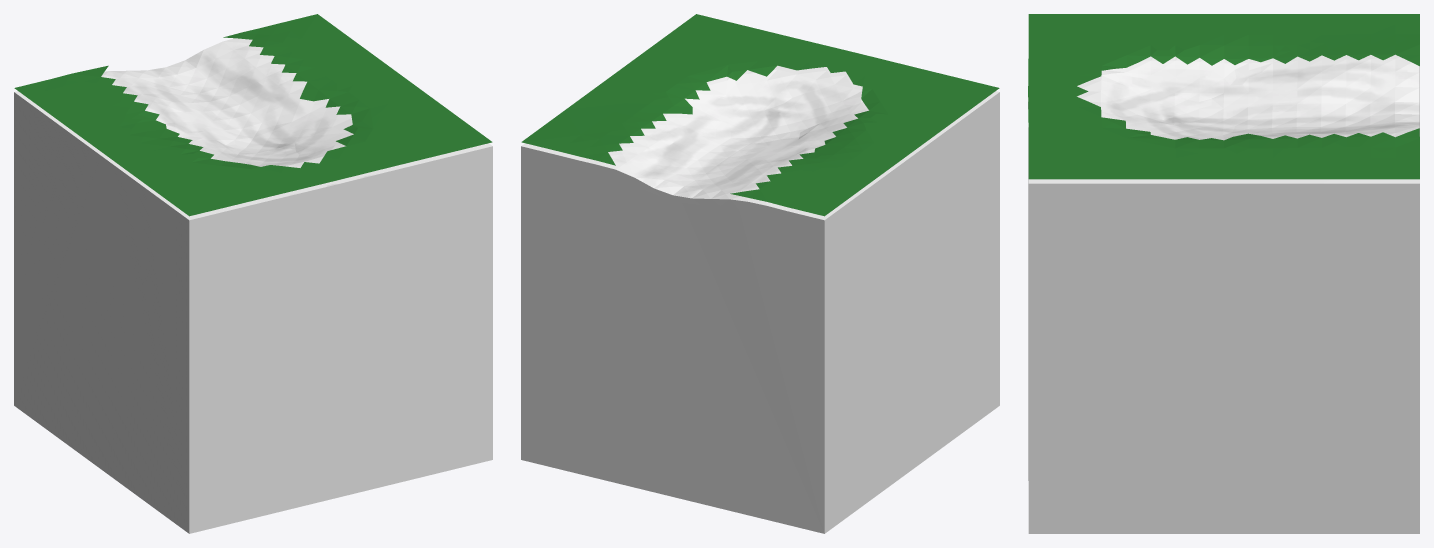
File: PathEnd.glb
3 renders of one model, left to right at view 1: azimuth 30°, elevation 25°; view 2: azimuth 150°, elevation 25°; view 3: azimuth 270°, elevation 25°, orthographic. The views are drawn at different scales.
Parts seen in each view (by area): view 1: PathEnd, PathEndGrass; view 2: PathEnd, PathEndGrass; view 3: PathEnd, PathEndGrass.
Boxes of the visible parts, x1,y1,x2,y2 form: PathEnd: (14,38,492,533); PathEndGrass: (14,14,492,216); PathEnd: (521,65,999,533); PathEndGrass: (521,14,999,216); PathEnd: (1028,54,1419,533); PathEndGrass: (1028,14,1419,179).
Bounding box in the file's own units: 2 × 2.01 × 2.
2 materials, 1 textured.
